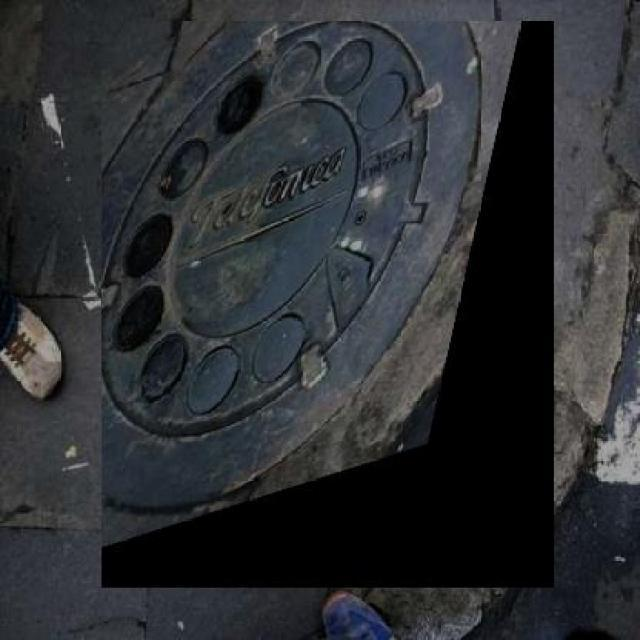Manhole: (102, 20, 555, 588)
